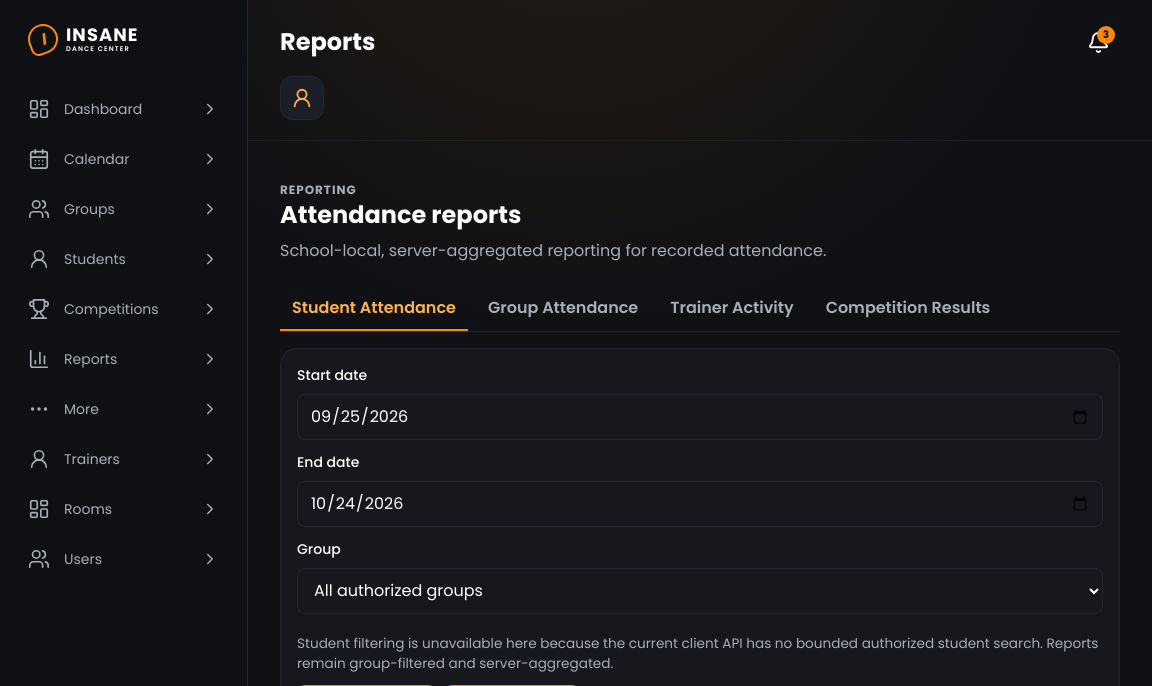
Test: ReportsPage › shows a controlled trainer limit error with retry
Click the tab "Trainer Activity": [732, 309] box 658,287 -> 806,331
(page scrolled)
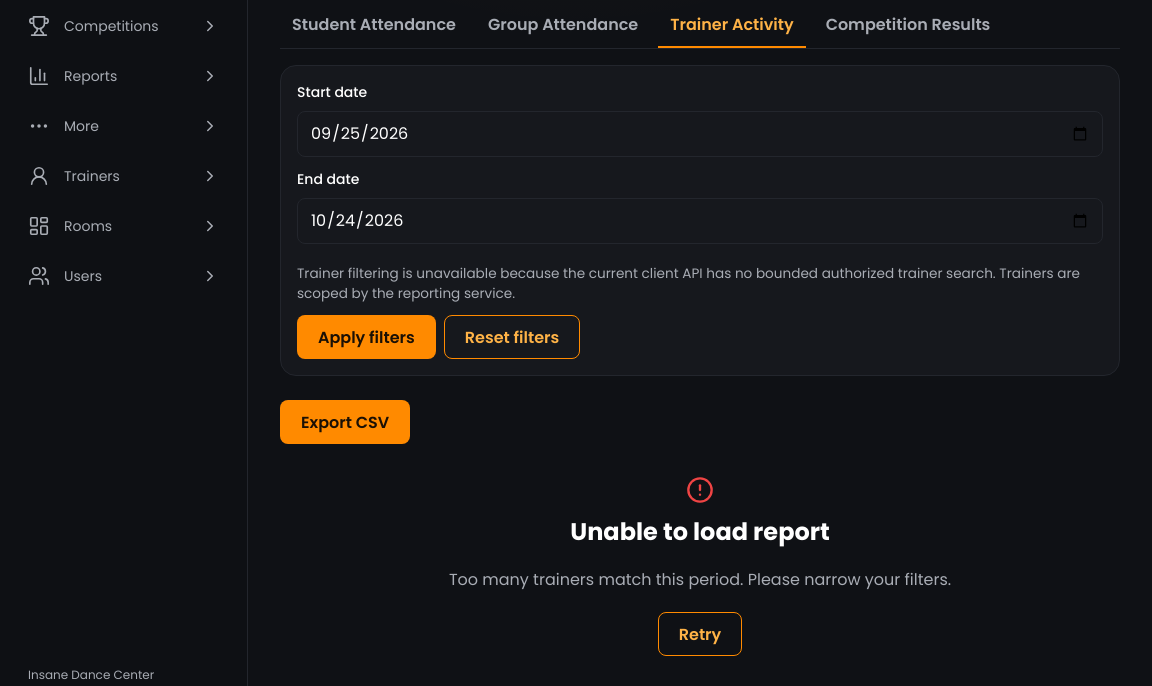
Result: the message shows "Too many trainers match this period. Please narrow your filters." at 449,568 -> 951,591
Result: the button "Retry" is shown at 658,612 -> 742,656
